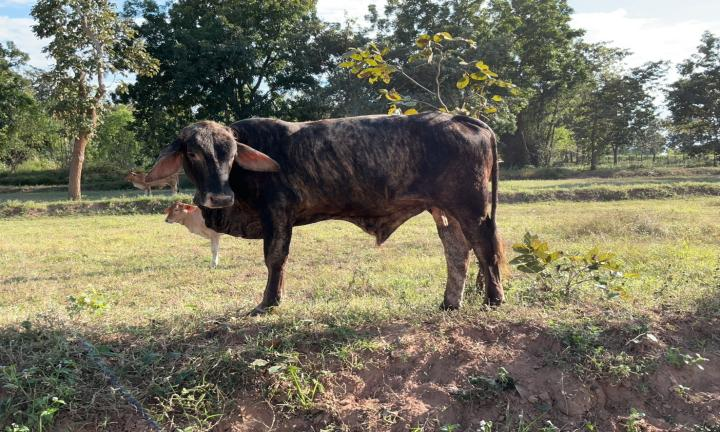Charolais: (148, 112, 505, 313)
